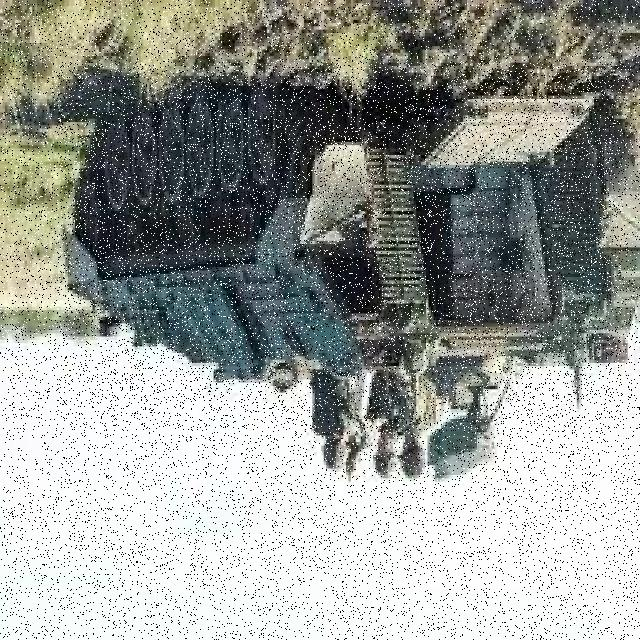MIL_MBT: (57, 63, 621, 428)
